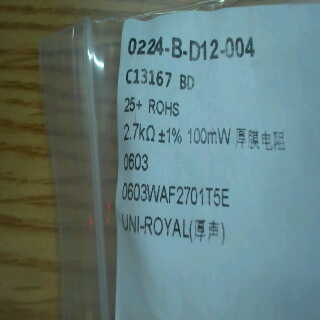2.7kR: (123, 122, 154, 145)
